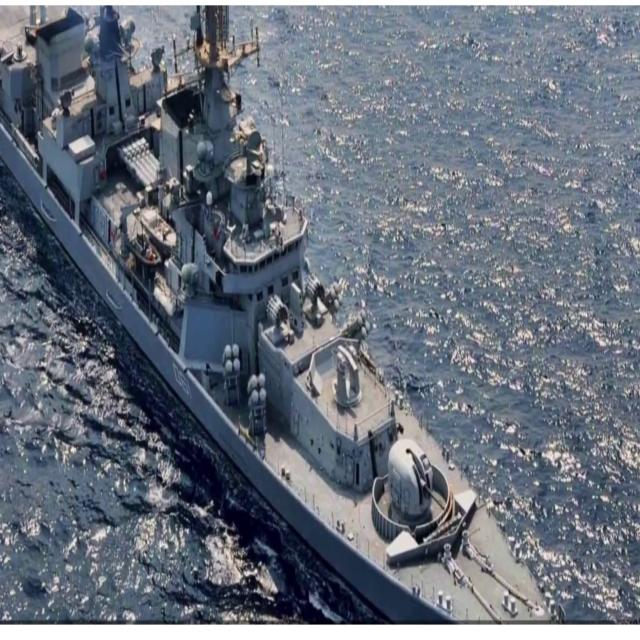OCR: (169, 356, 195, 404)
